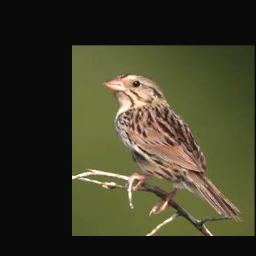Sparrow: (102, 71, 240, 221)
